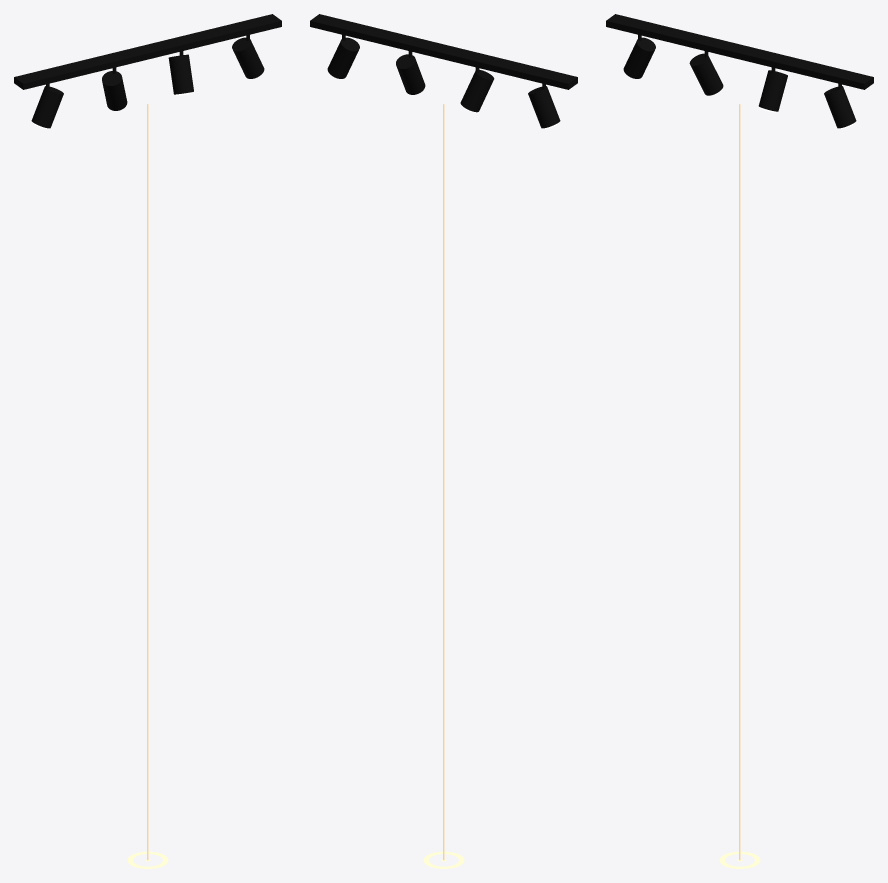
File: plafonnier-noir-moderne-4-spots-orientables-modele-virelia.glb
The picture shows the model from 3 angles, left to right: view 1: azimuth 30°, elevation 25°; view 2: azimuth 150°, elevation 25°; view 3: azimuth 330°, elevation 25°; orthographic projection.
Parts seen in each view (by area): view 1: plafonnier-noir-moderne-4-spots-orientables-modele-virelia, reperage-fil; view 2: plafonnier-noir-moderne-4-spots-orientables-modele-virelia, reperage-fil; view 3: plafonnier-noir-moderne-4-spots-orientables-modele-virelia, reperage-fil.
Boxes of the visible parts, left/top/right/bottom form: plafonnier-noir-moderne-4-spots-orientables-modele-virelia: left=14, top=14, right=281, bottom=128; reperage-fil: left=147, top=104, right=148, bottom=860; plafonnier-noir-moderne-4-spots-orientables-modele-virelia: left=310, top=14, right=577, bottom=128; reperage-fil: left=443, top=104, right=444, bottom=860; plafonnier-noir-moderne-4-spots-orientables-modele-virelia: left=606, top=14, right=873, bottom=128; reperage-fil: left=739, top=104, right=740, bottom=860.
Bounding box in the file's own units: 0.8 × 2.4 × 0.11.
